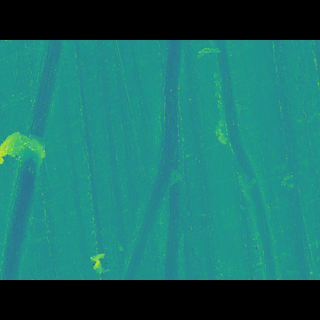Loch: (118, 68, 197, 251), (207, 70, 280, 250), (0, 69, 67, 252), (0, 138, 51, 170), (84, 227, 117, 248)
